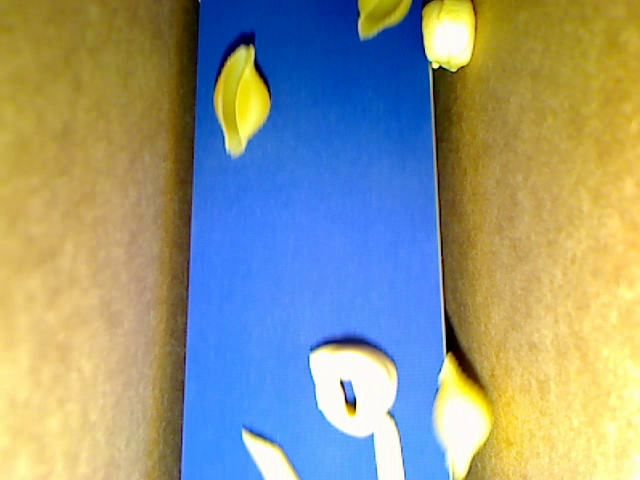penne: (241, 428, 300, 479), (373, 410, 405, 479)
shell: (431, 352, 493, 479), (214, 45, 272, 157), (355, 1, 413, 41)
tortellini: (307, 342, 399, 437)
